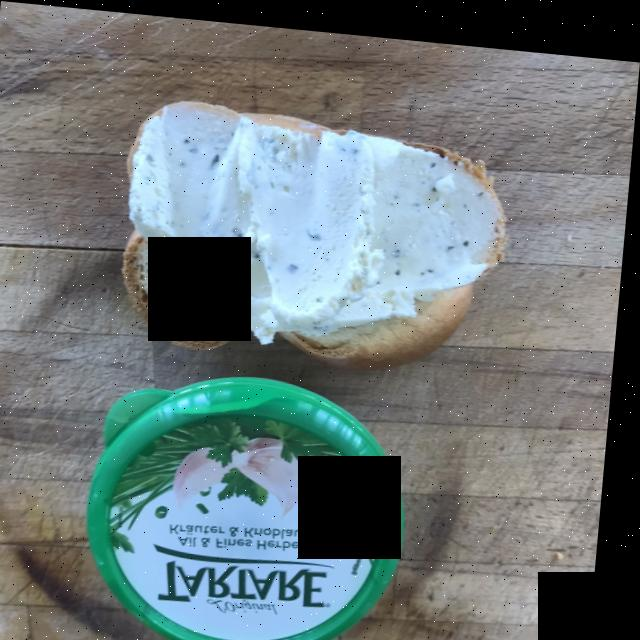braided-white-loaf: (124, 94, 498, 356)
